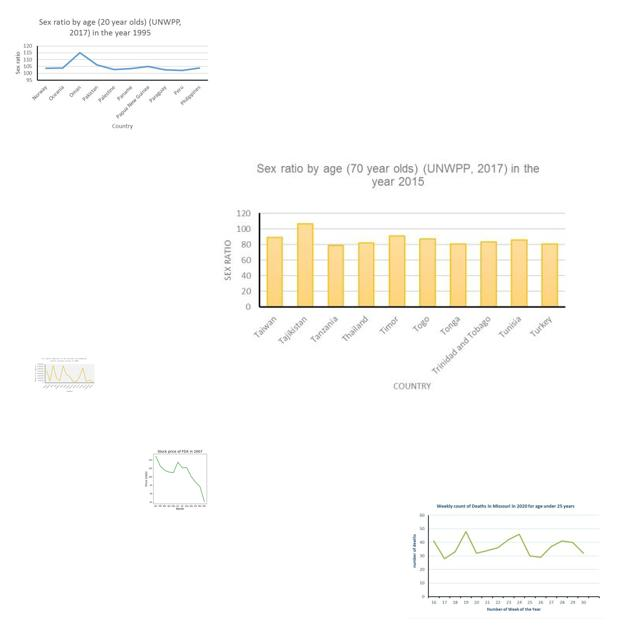Graph: (215, 159, 571, 395), (10, 15, 211, 132), (407, 500, 604, 619), (136, 446, 222, 511), (33, 356, 96, 394)
